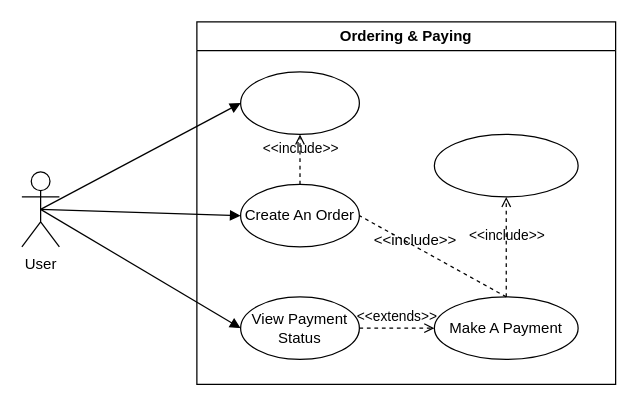
The diagram is 638 pixels wide and 406 high, and some of its shapes have lost their labels. Here are the shapes that lost their labels. From the top down, the centre of each, then its label:
At (299,102): "Create A Client".
At (505,165): "Choose A Payment Method".
